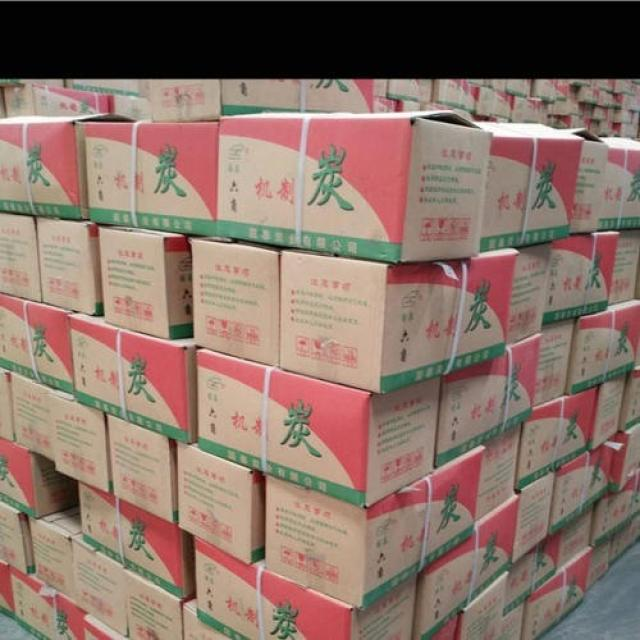box: (214, 109, 493, 263), (197, 347, 442, 508), (264, 443, 485, 608), (279, 248, 518, 393), (196, 537, 417, 639), (69, 307, 205, 443), (85, 121, 219, 239), (414, 492, 521, 638), (433, 331, 542, 471), (0, 113, 141, 220), (473, 123, 584, 254), (78, 481, 196, 599), (191, 236, 283, 369), (71, 531, 182, 639), (99, 224, 195, 341), (178, 437, 264, 564), (518, 384, 600, 490), (0, 292, 77, 398), (106, 414, 178, 526), (565, 298, 639, 397), (548, 432, 616, 538), (542, 230, 616, 325), (35, 216, 104, 315), (50, 387, 114, 493), (0, 436, 80, 519), (523, 546, 593, 638), (12, 566, 89, 639), (558, 127, 609, 232), (31, 504, 83, 602), (506, 241, 554, 345), (506, 529, 561, 613), (475, 424, 522, 520), (513, 472, 554, 565), (589, 470, 639, 546), (0, 212, 41, 304), (11, 371, 53, 459), (534, 318, 576, 405), (601, 137, 639, 230), (456, 572, 508, 637), (589, 374, 630, 451), (0, 499, 35, 575), (609, 228, 639, 303), (608, 422, 638, 494), (560, 506, 593, 568), (587, 534, 613, 595)
